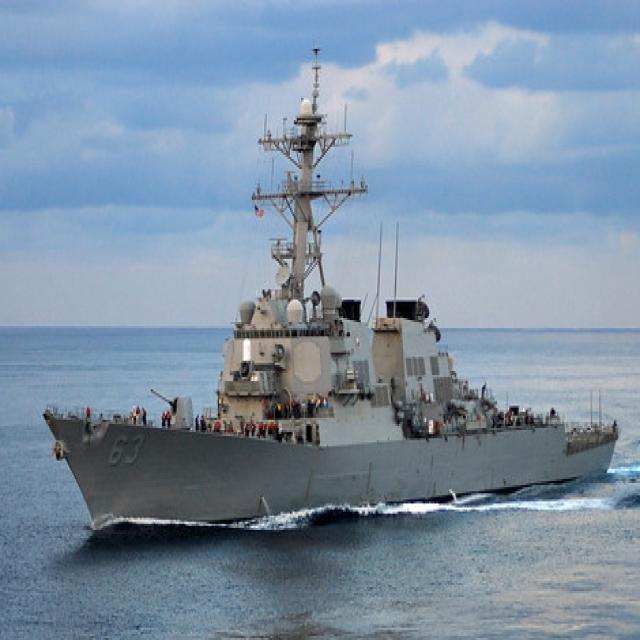navalvessels: (31, 54, 629, 533)
